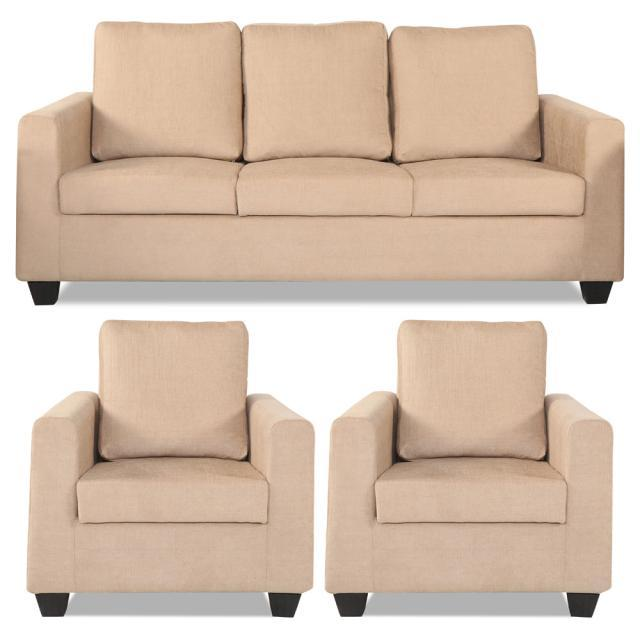sofa: (14, 19, 626, 306), (25, 318, 315, 618), (324, 318, 614, 618)
